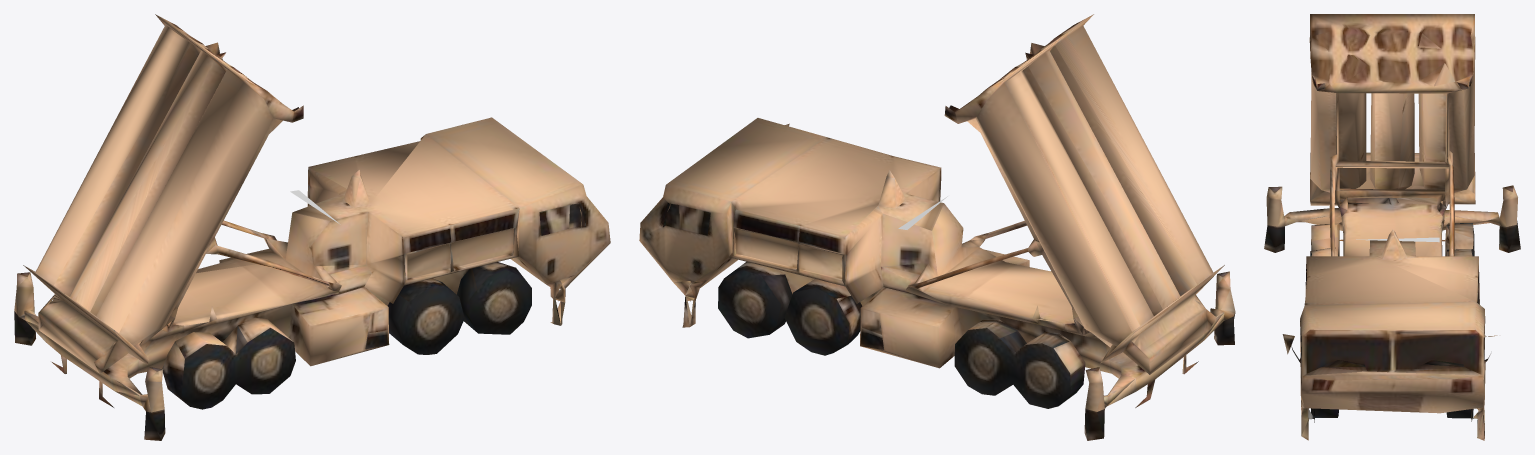
The model's file is thaad_lo.glb.
The picture shows the model from 3 angles, left to right: view 1: azimuth 30°, elevation 25°; view 2: azimuth 150°, elevation 25°; view 3: azimuth 270°, elevation 25°; orthographic projection. The views are drawn at different scales.
Visible parts, largest first — view 1: g_thaad_hull; view 2: g_thaad_hull; view 3: g_thaad_hull.
Part boxes in pixels (bbox=[...]): g_thaad_hull: bbox=[14, 14, 610, 440]; g_thaad_hull: bbox=[639, 14, 1235, 440]; g_thaad_hull: bbox=[1264, 14, 1520, 440].
Size of the model in its own units: 11.98 by 7.39 by 5.94.
Materials: 2 (1 with a texture image).
